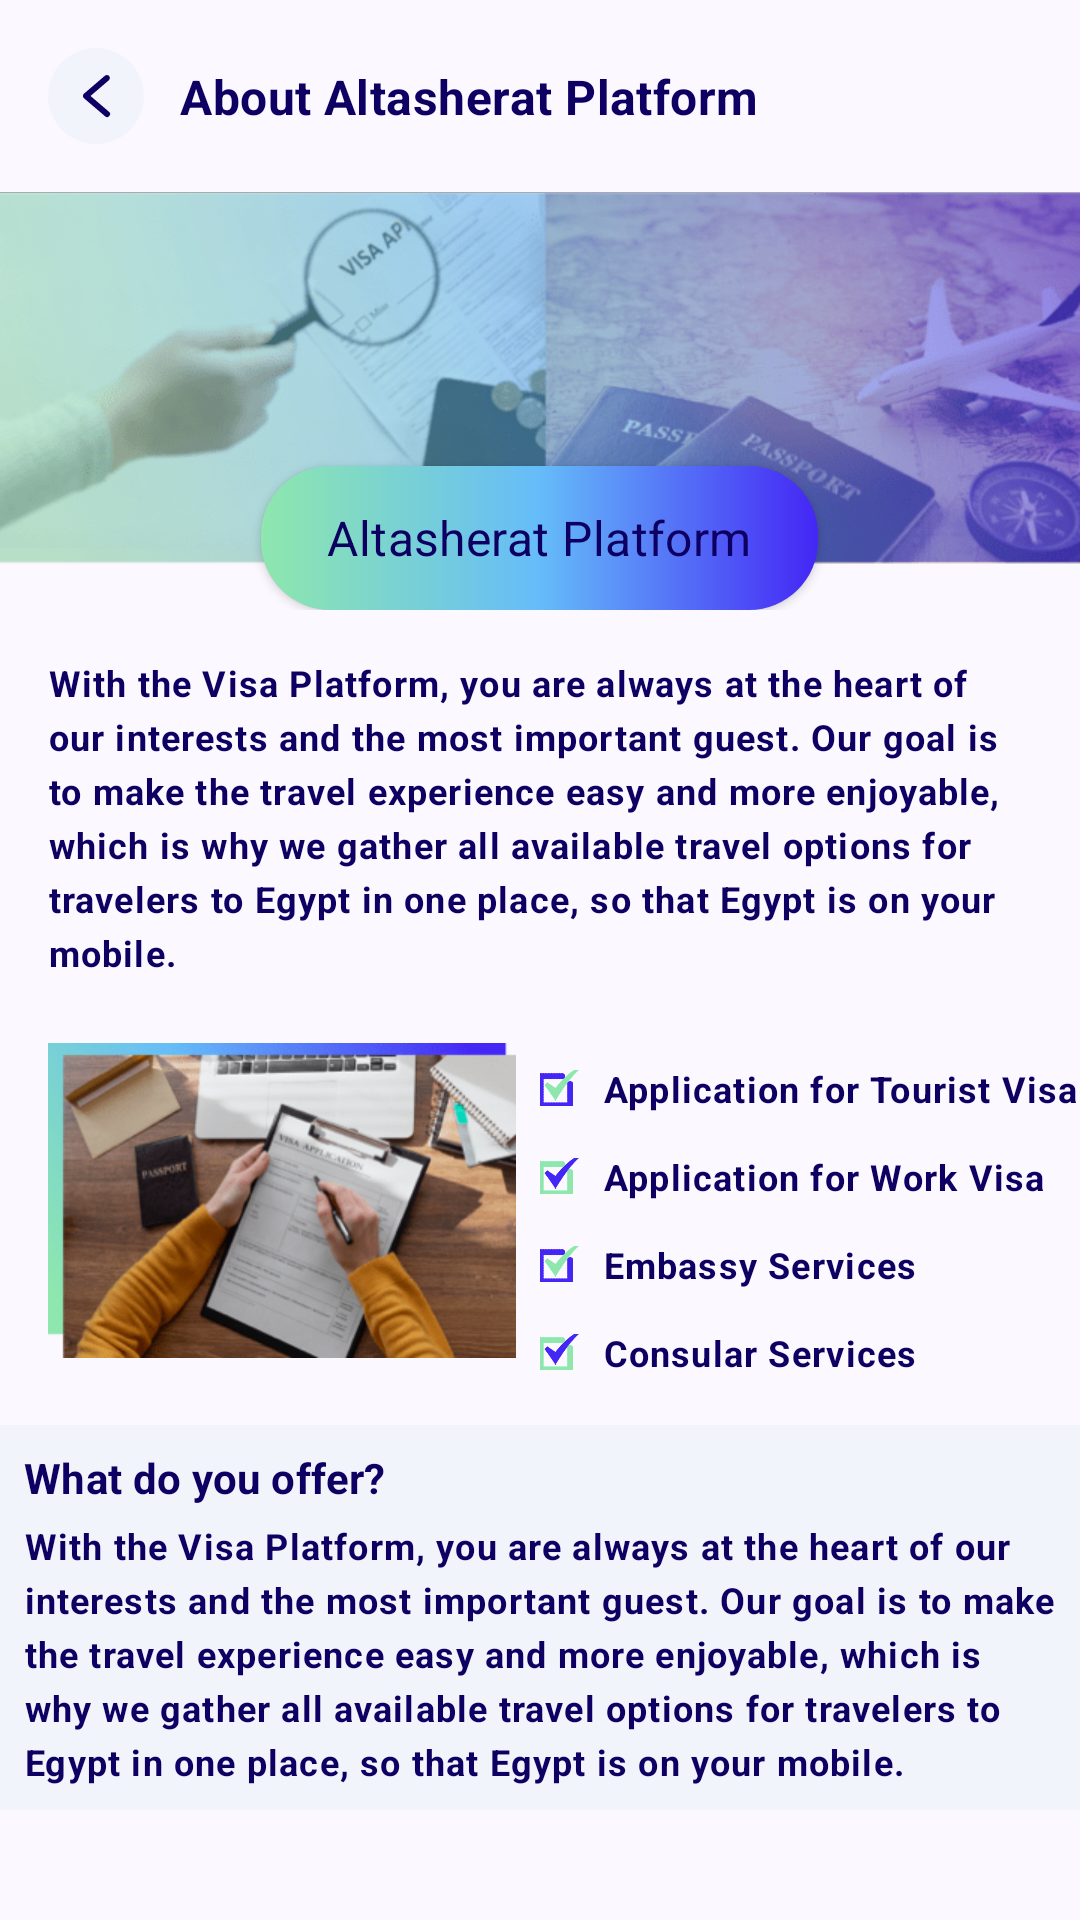

Icon bounding boxes for this 1080*1920 phone screenshot, format box(x1, y1, x2, y2):
arrow back: box(48, 48, 144, 144)
